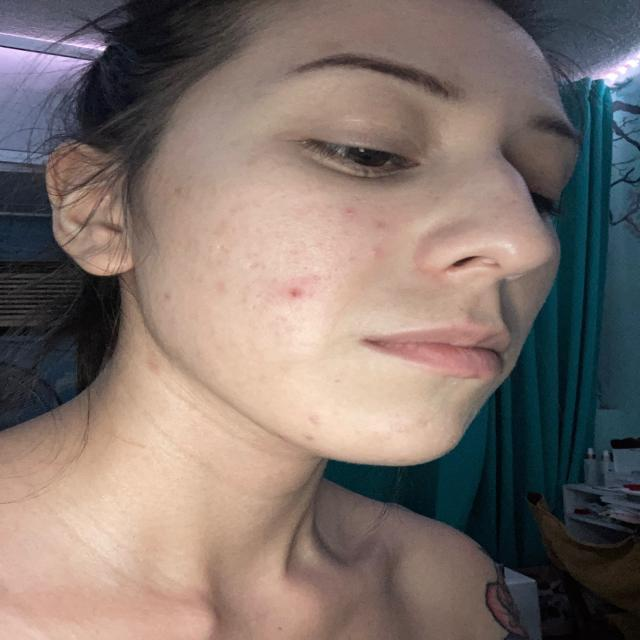acne: (332, 202, 364, 219), (284, 288, 308, 304), (302, 410, 322, 426), (245, 256, 261, 276), (370, 238, 380, 258), (308, 428, 318, 446), (216, 281, 228, 296)
dark circle: (283, 156, 433, 199)
